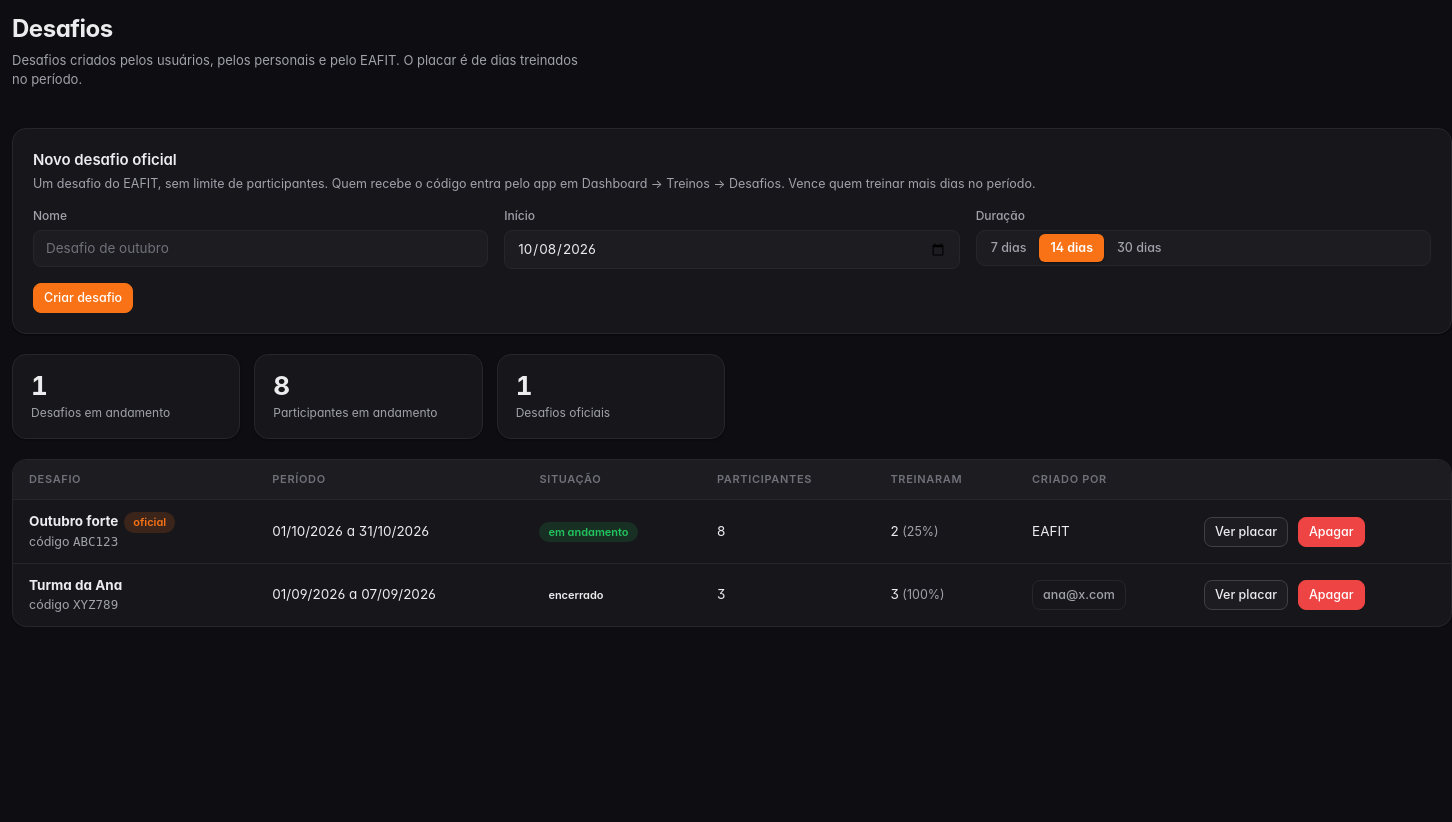
Test case: Challenges › cria um desafio oficial e mostra o código
The width and height of the screenshot is (1452, 822).
Expected: the text "Outubro forte" is shown, [29,514,118,530]
Type " Novembro " into the field labelled "Nome" at (261, 249), box [33,230,488,267]
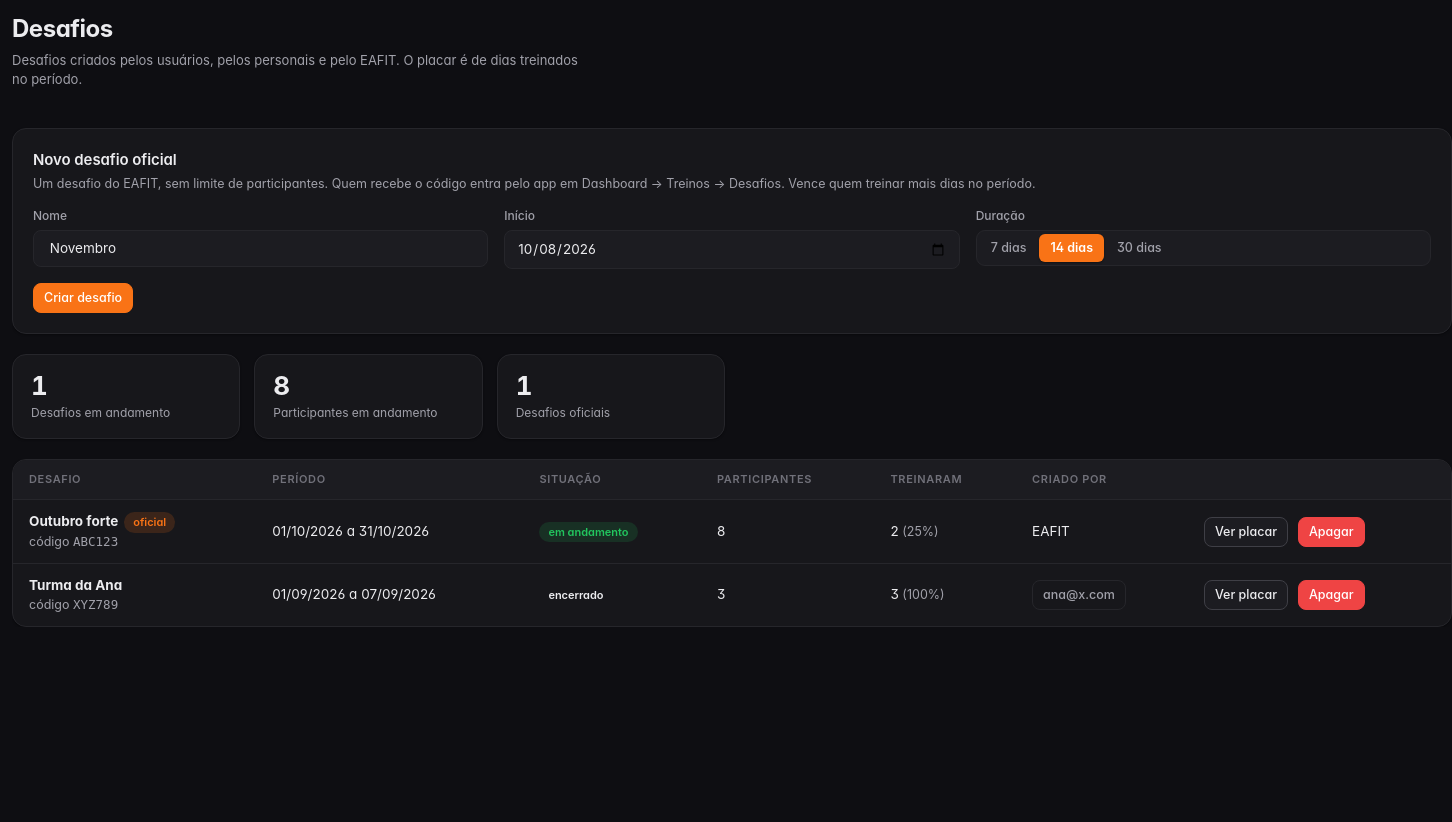
Click the button "7 dias" at (1009, 248), box [980,234,1038,262]
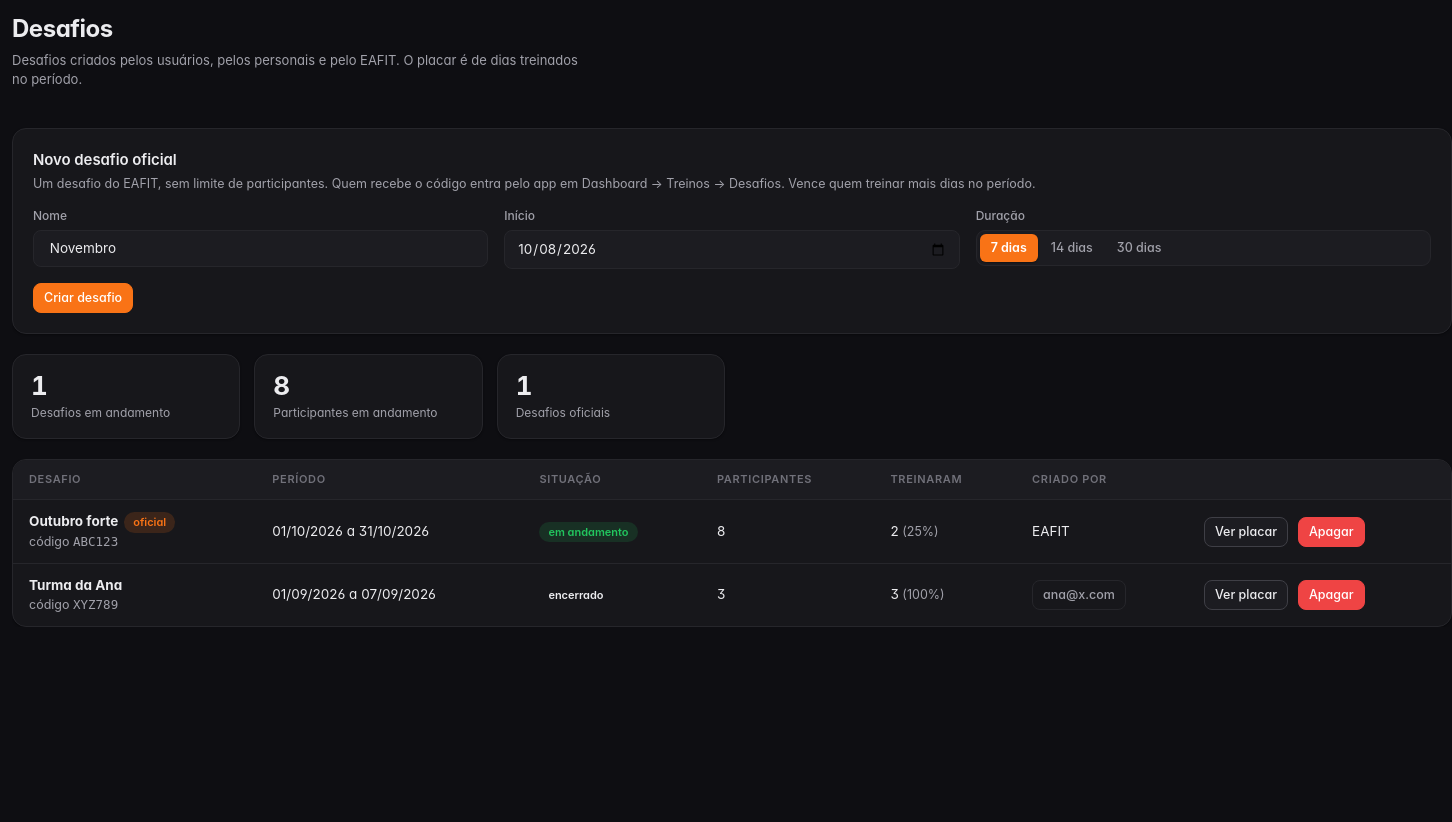
Click the button "Criar desafio" at (83, 298), box [33,283,133,313]
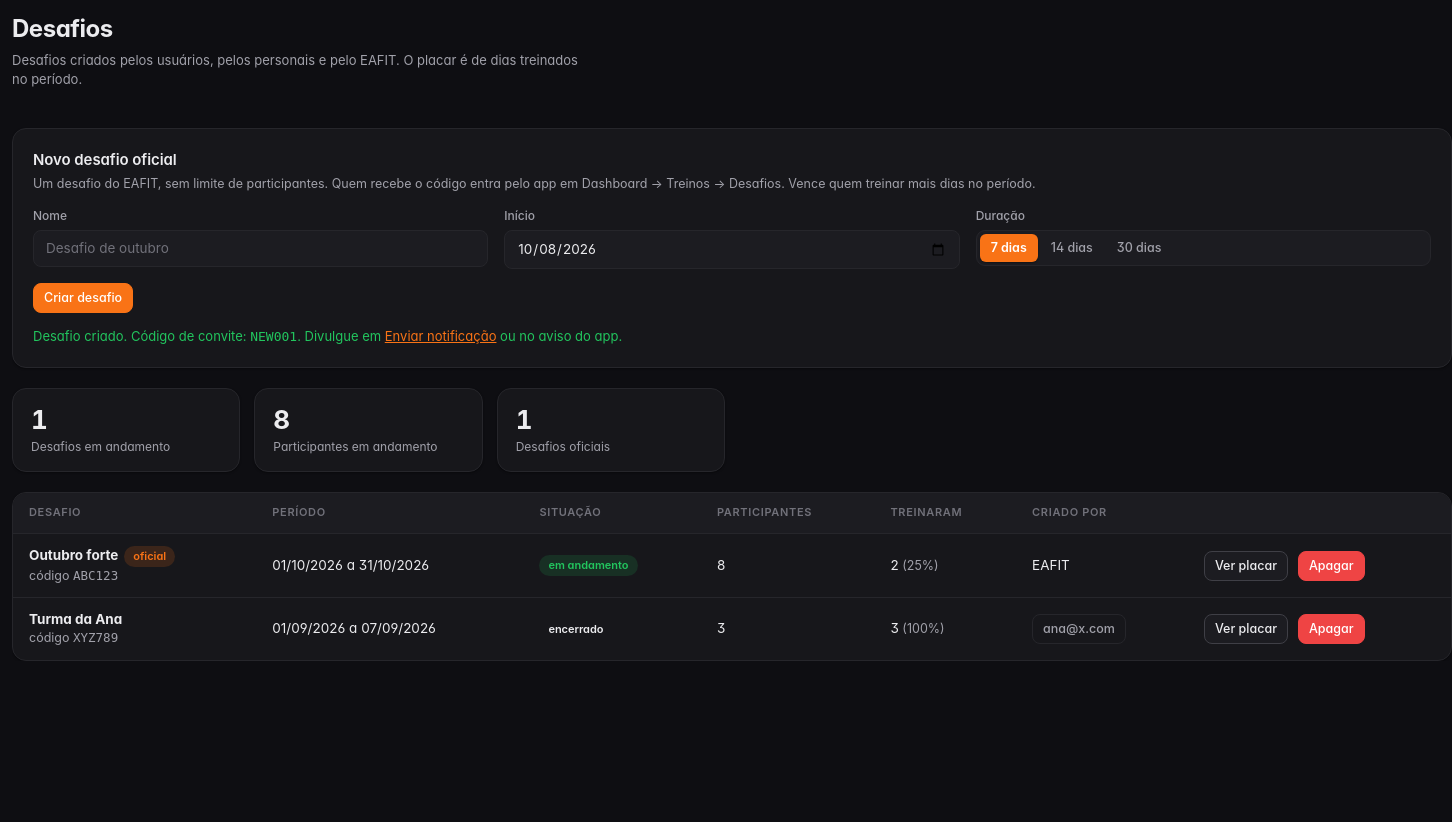
Expected: the text "NEW001" is shown, [250,329,297,344]
